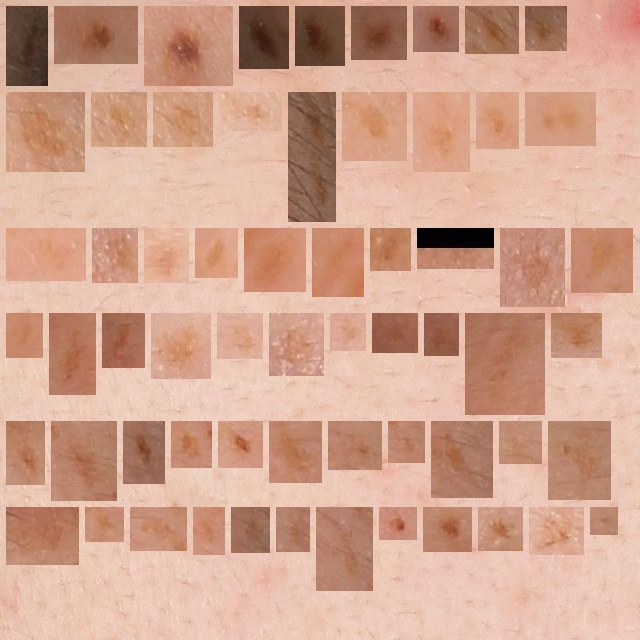melasma: (473, 321, 537, 407), (14, 100, 77, 164), (296, 100, 328, 214), (59, 429, 109, 493), (508, 236, 557, 299), (556, 429, 603, 492), (439, 429, 485, 490), (324, 515, 365, 583), (421, 100, 462, 164), (350, 100, 399, 153), (14, 515, 71, 557), (14, 236, 78, 273), (579, 236, 625, 285), (252, 236, 298, 284), (159, 321, 203, 371), (533, 100, 588, 138), (57, 321, 88, 387), (320, 236, 356, 289), (277, 321, 316, 368), (161, 100, 205, 139), (277, 429, 314, 475), (99, 100, 139, 139), (425, 236, 486, 261), (336, 429, 374, 462), (537, 515, 576, 547), (131, 429, 157, 476), (473, 14, 511, 46), (100, 236, 130, 275), (138, 515, 179, 543), (152, 236, 181, 275), (484, 100, 511, 141), (14, 429, 37, 477), (227, 100, 274, 123), (110, 321, 137, 360), (559, 321, 594, 350), (431, 515, 464, 544), (203, 236, 230, 270), (225, 321, 255, 351), (226, 429, 255, 460), (486, 515, 515, 543), (179, 429, 204, 460), (533, 14, 559, 43), (507, 429, 534, 456), (380, 321, 410, 345), (239, 515, 262, 545), (378, 236, 403, 263), (14, 321, 35, 350), (396, 429, 417, 455), (284, 515, 302, 544), (432, 321, 451, 348), (201, 515, 217, 547), (338, 321, 358, 343), (93, 515, 116, 534), (387, 515, 409, 532), (598, 515, 610, 527)
nevus: (152, 14, 225, 78), (62, 14, 130, 56), (247, 14, 281, 61), (359, 14, 399, 52), (303, 14, 337, 58), (421, 14, 451, 44)
